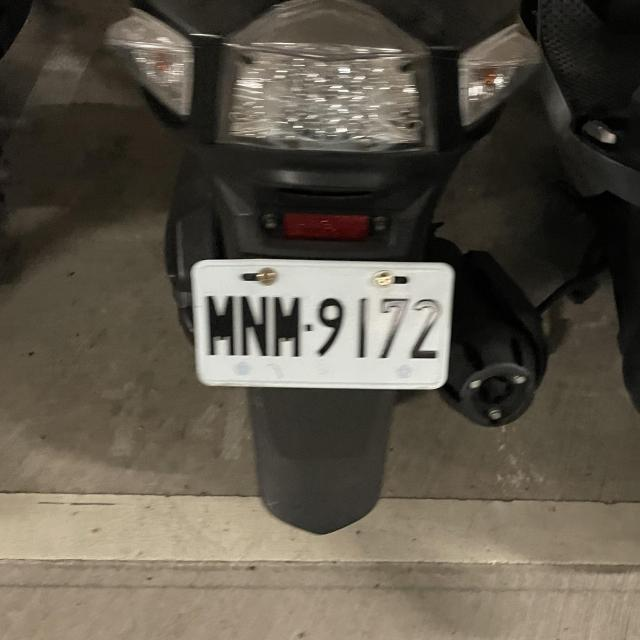W: (188, 251, 456, 396)
